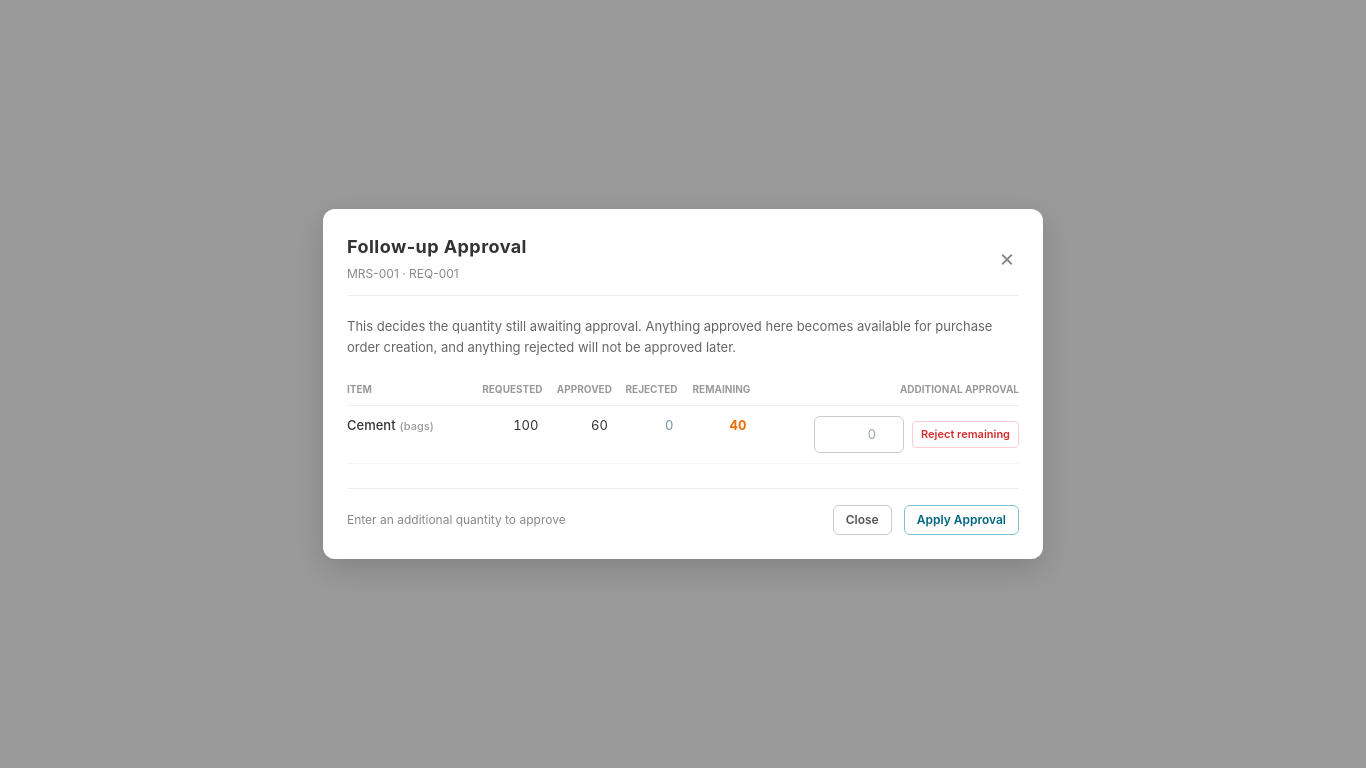
Test case: Reject Remaining requires a reason › will not submit without one
Check: the text "Cement(bags)" is shown, box [347,405,466,464]
Click the button "Reject remaining".
click(966, 435)  # box [912,421,1019,448]
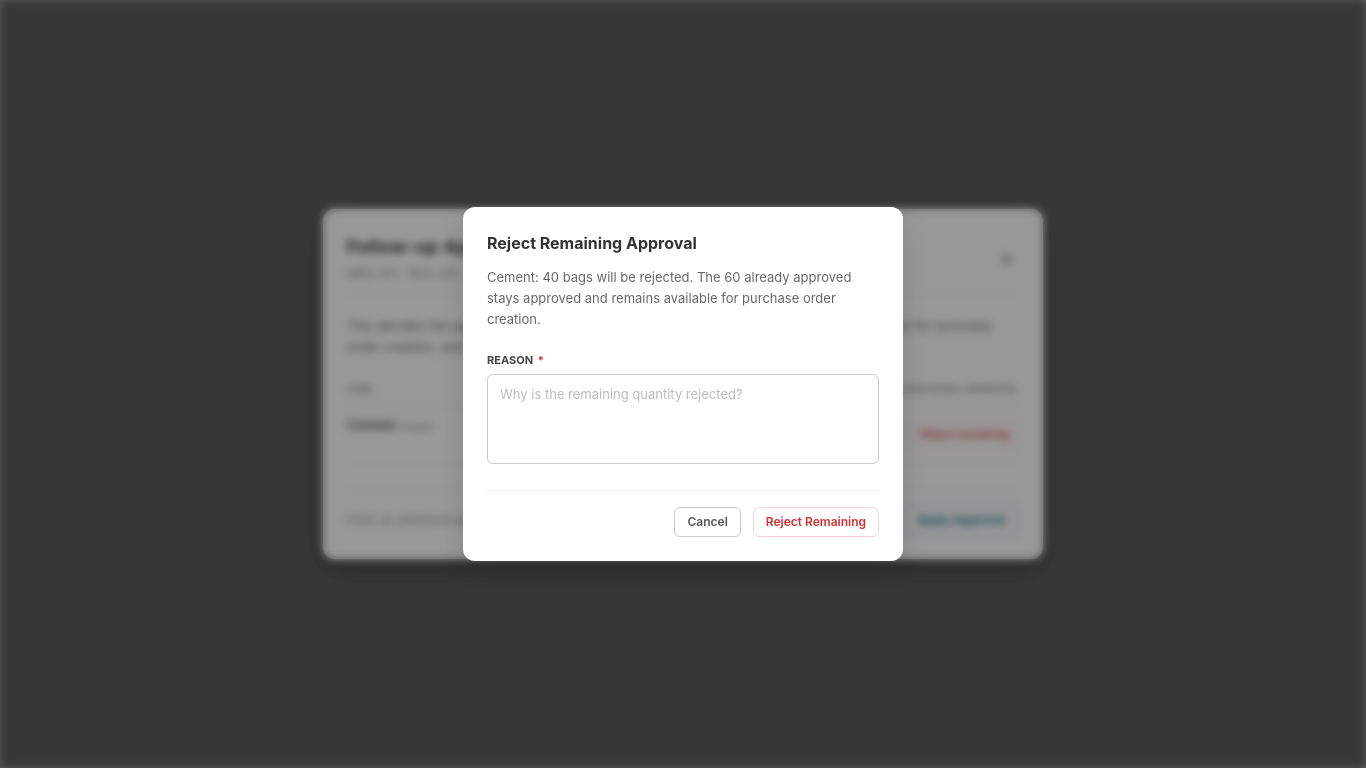
Check: the heading "Reject Remaining Approval" is shown, box [487,233,697,253]
Check: the text "60 already approved stays approved" is shown, box [487,267,879,330]
Click the button "Reject Remaining".
click(816, 522)  # box [753,507,879,537]
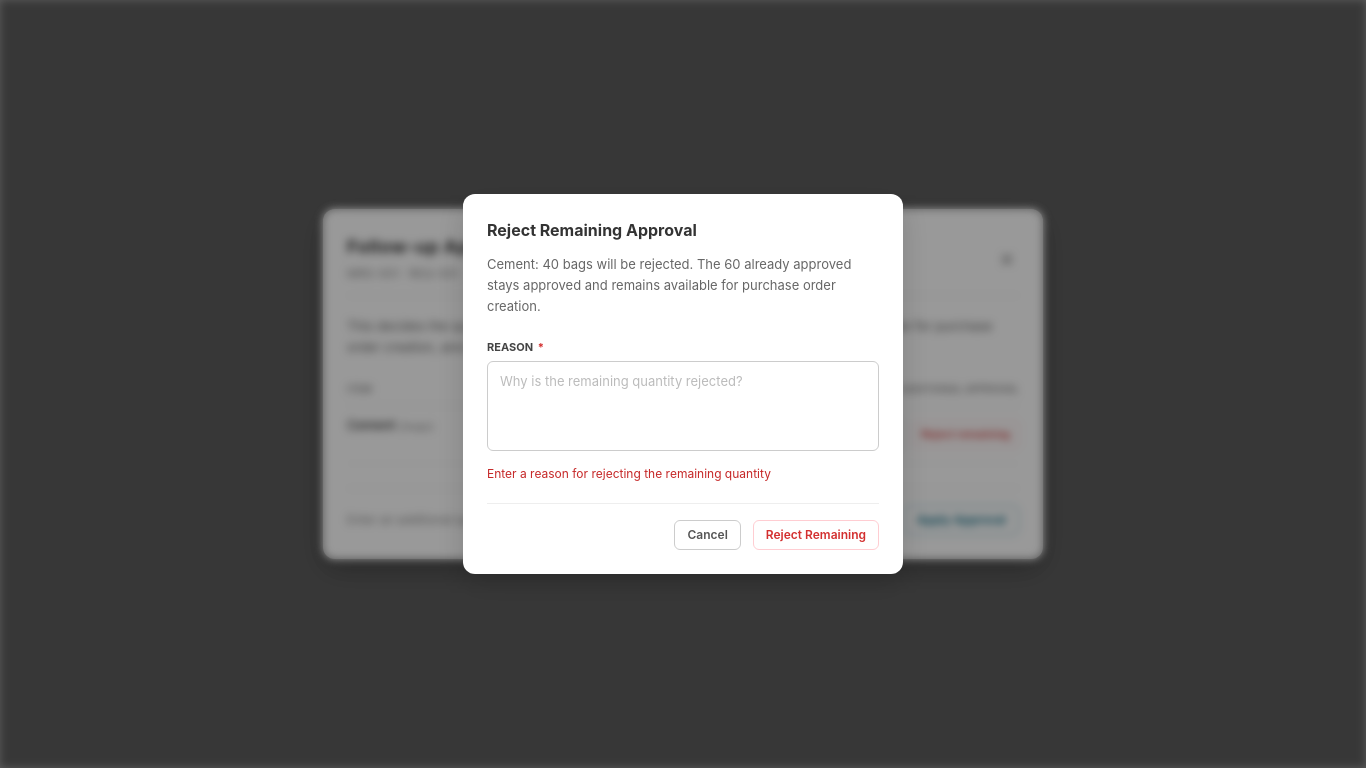
Check: the text "Enter a reason for rejecting the remaining quantity" is shown, box [487,466,771,481]
